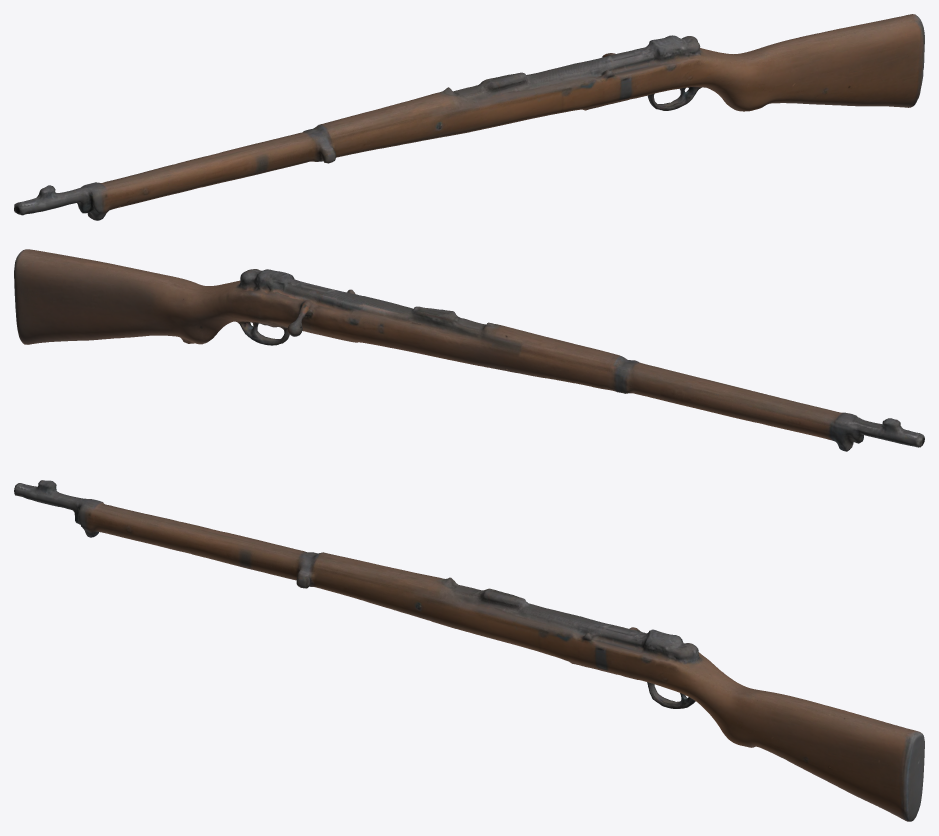
The model's file is Enfield.glb.
3 renders of one model, top to bottom at view 1: azimuth 30°, elevation 25°; view 2: azimuth 150°, elevation 25°; view 3: azimuth 330°, elevation 25°, orthographic.
Bounding box in the file's own units: 2 × 0.2803 × 0.1521.
Materials: 1 (1 with a texture image).
